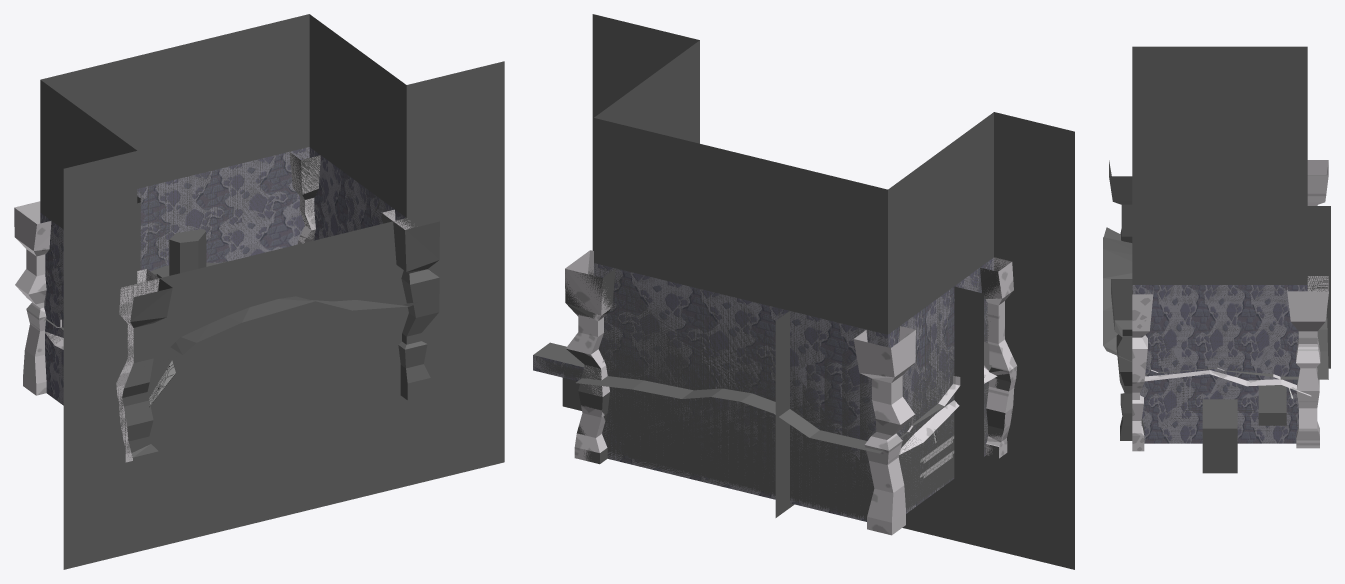
File: jin_08_bake_split.dae
3 views of the same model, side by side, from view 1: azimuth 30°, elevation 25°; view 2: azimuth 150°, elevation 25°; view 3: azimuth 270°, elevation 25° (orthographic). The views are drawn at different scales.
Visible parts, largest first — view 1: MASUKU, a_gawa02, polySurface882_q00057_part0, a_hashira01, polySurface42_q00055, a_hari01, a_oumu_bo; view 2: MASUKU, a_gawa02, polySurface882_q00057_part0, polySurface42_q00055, a_gawa01, a_hashira01, a_hari01, polySurface876_q00056, polySurface882_q00057_part1; view 3: MASUKU, polySurface882_q00057_part0, a_gawa02, polySurface42_q00055, a_hashira01, polySurface882_q00057_part1, a_hari01, a_gawa01, polySurface876_q00056.
Boxes of the visible parts, x1,y1,x2,y2 form: MASUKU: (40, 14, 504, 569); a_gawa02: (40, 147, 406, 454); polySurface882_q00057_part0: (40, 147, 405, 404); a_hashira01: (122, 152, 439, 467); polySurface42_q00055: (14, 152, 412, 462); a_hari01: (45, 261, 421, 363); a_oumu_bo: (169, 229, 206, 275); MASUKU: (592, 14, 1074, 569); a_gawa02: (533, 258, 993, 520); polySurface882_q00057_part0: (533, 257, 993, 521); polySurface42_q00055: (565, 250, 1017, 535); a_gawa01: (775, 286, 983, 517); a_hashira01: (565, 268, 1010, 464); a_hari01: (576, 364, 991, 453); polySurface876_q00056: (602, 341, 997, 454); polySurface882_q00057_part1: (534, 342, 583, 410); MASUKU: (1132, 46, 1307, 284); polySurface882_q00057_part0: (1132, 285, 1307, 443); a_gawa02: (1132, 285, 1307, 473); polySurface42_q00055: (1132, 160, 1328, 451); a_hashira01: (1109, 160, 1328, 440); polySurface882_q00057_part1: (1202, 385, 1286, 473); a_hari01: (1103, 227, 1328, 379); a_gawa01: (1307, 206, 1330, 368); polySurface876_q00056: (1144, 351, 1311, 396).
Bounding box in the file's own units: 65.57 × 56.97 × 32.53.
